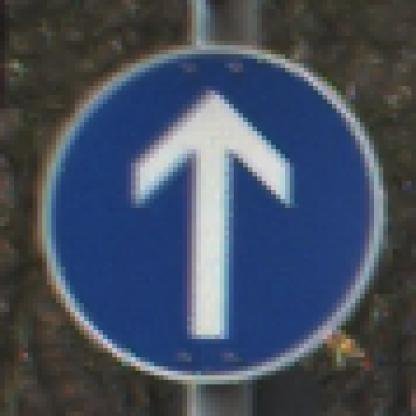AheadOnly: (39, 42, 385, 381)
